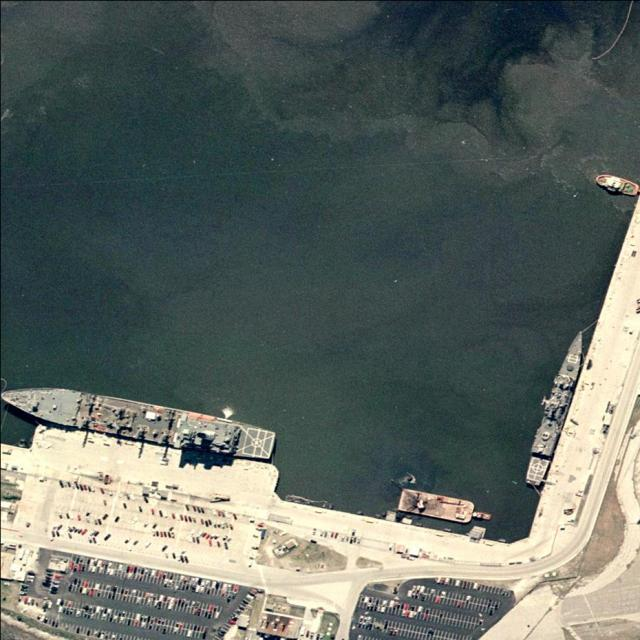Commander: (1, 374, 278, 470)
Frigate: (525, 328, 588, 486)
Hovercraft: (592, 171, 640, 198)
